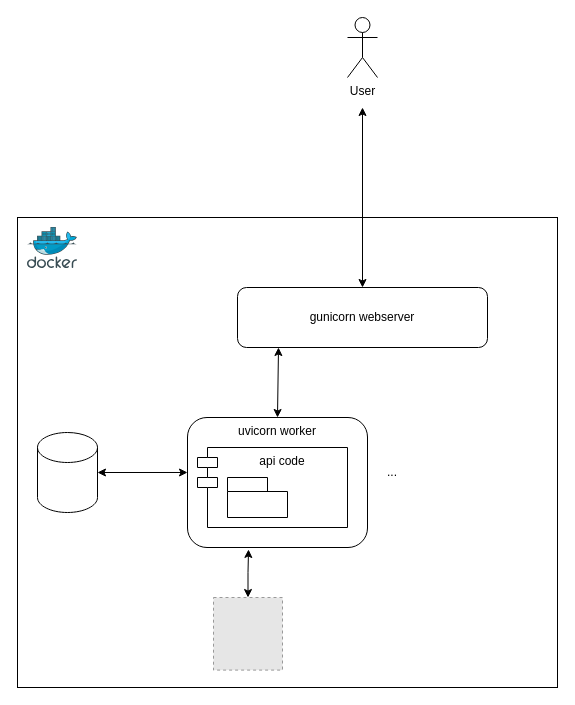
The diagram is 575 pixels wide and 705 high, and some of its shapes have lost their labels. Grey dashed boxes stand in for pictures. Here are the shapes that lost their labels. From the top down, the box of each, then its label:
(36, 432, 98, 512): DB
(226, 476, 288, 518): FastAPI
